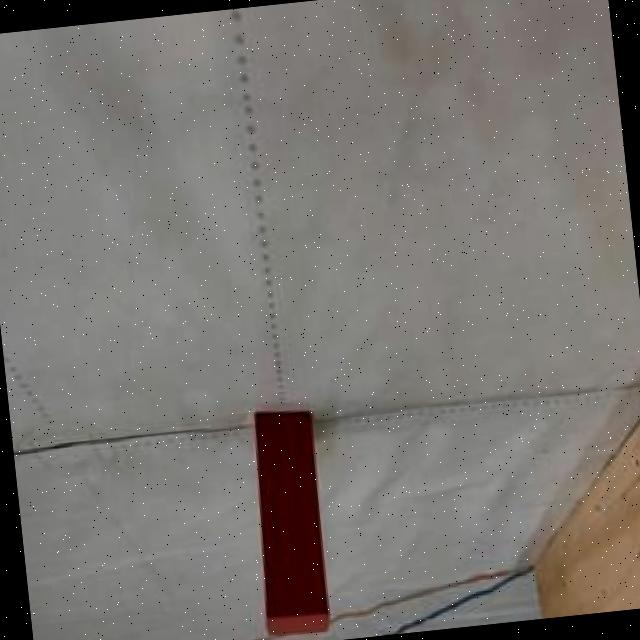redbox: (241, 403, 333, 640)
